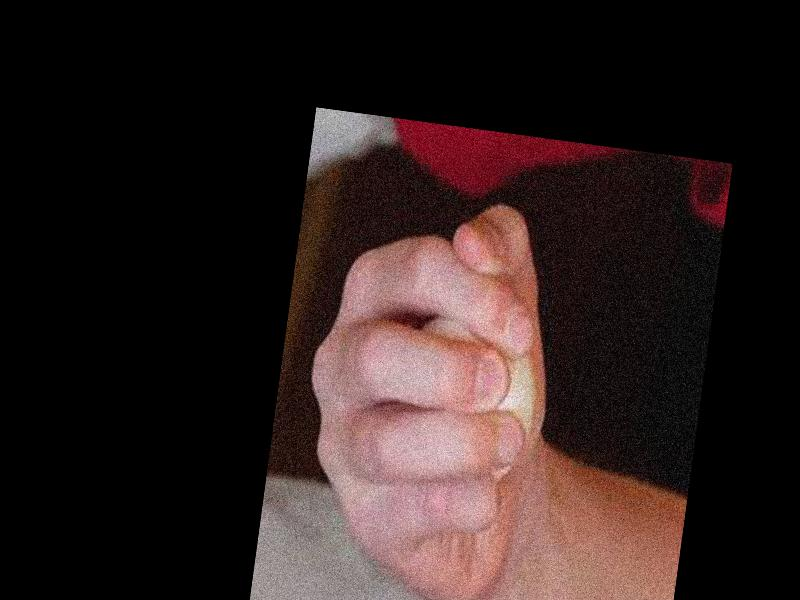Eggs: (401, 294, 548, 484)
